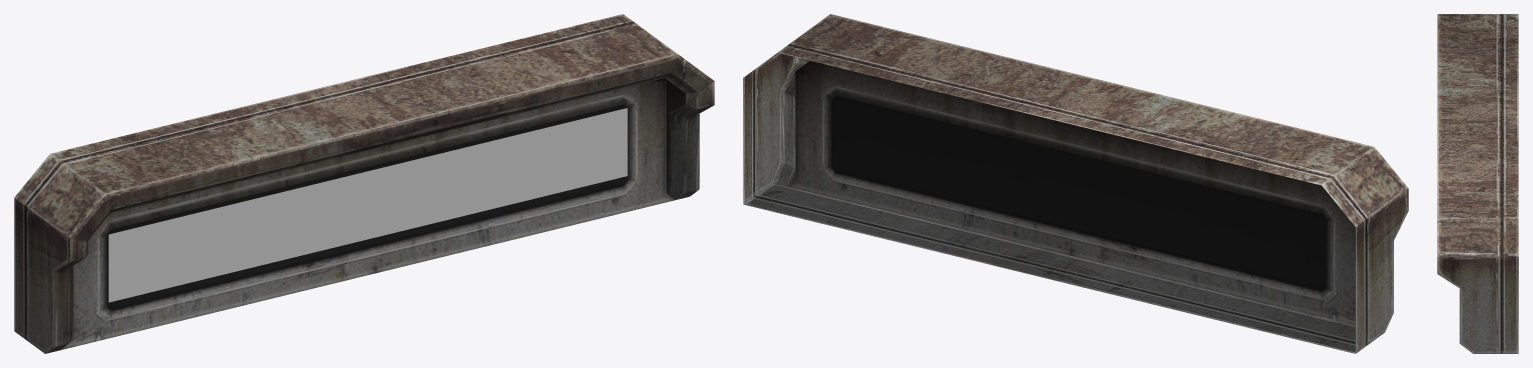
File: led_display_small_commroom.dae
The picture shows the model from 3 angles, left to right: view 1: azimuth 30°, elevation 25°; view 2: azimuth 150°, elevation 25°; view 3: azimuth 270°, elevation 25°; orthographic projection. The views are drawn at different scales.
Parts seen in each view (by area): view 1: led_display, text; view 2: led_display; view 3: led_display.
Boxes of the visible parts, x1,y1,x2,y2 form: led_display: (14, 14, 714, 353); text: (108, 108, 627, 302); led_display: (743, 14, 1408, 353); led_display: (1437, 14, 1518, 353).
Size of the model in its own units: 1.12 by 0.2812 by 0.1684.
